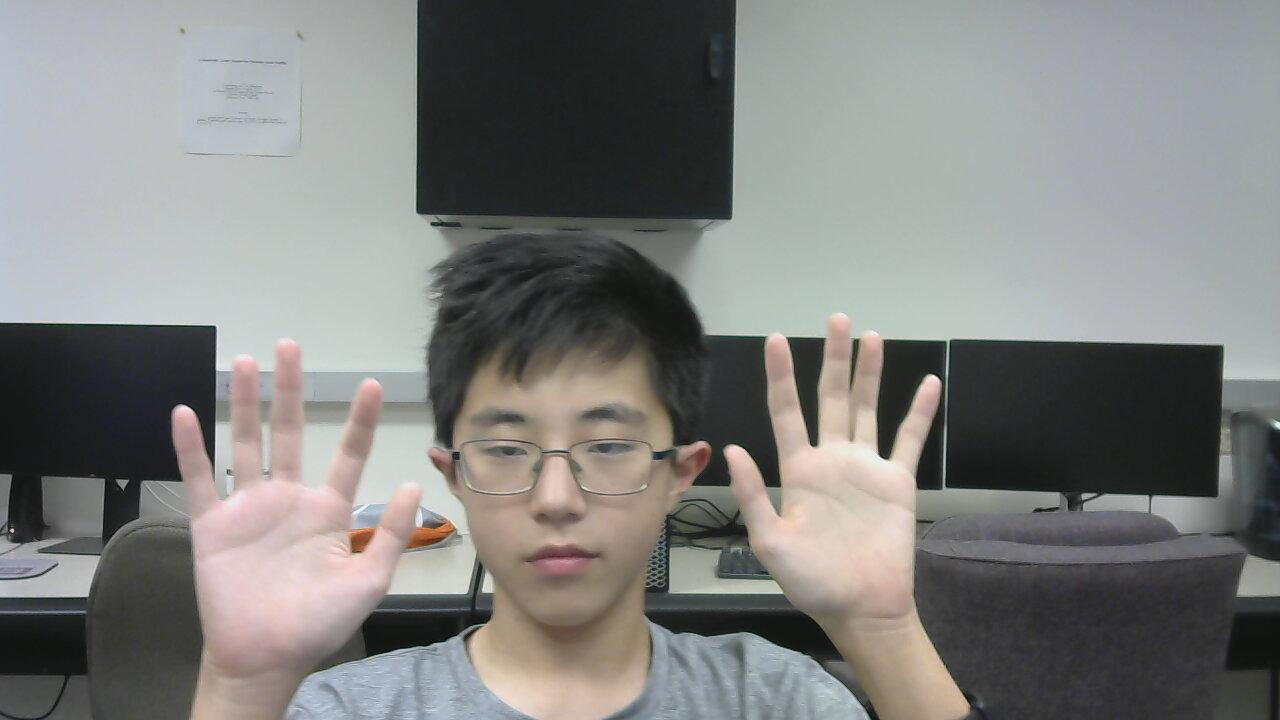hands: (156, 326, 417, 653), (722, 309, 972, 621)
